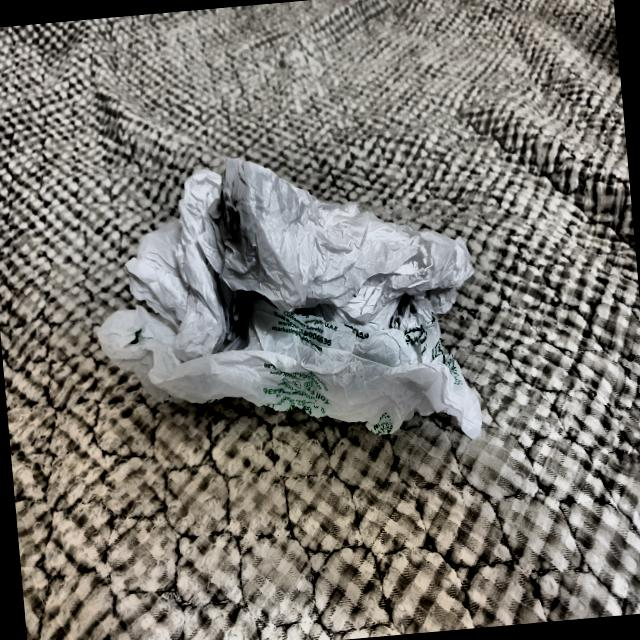plastic bag: (74, 128, 505, 502)
